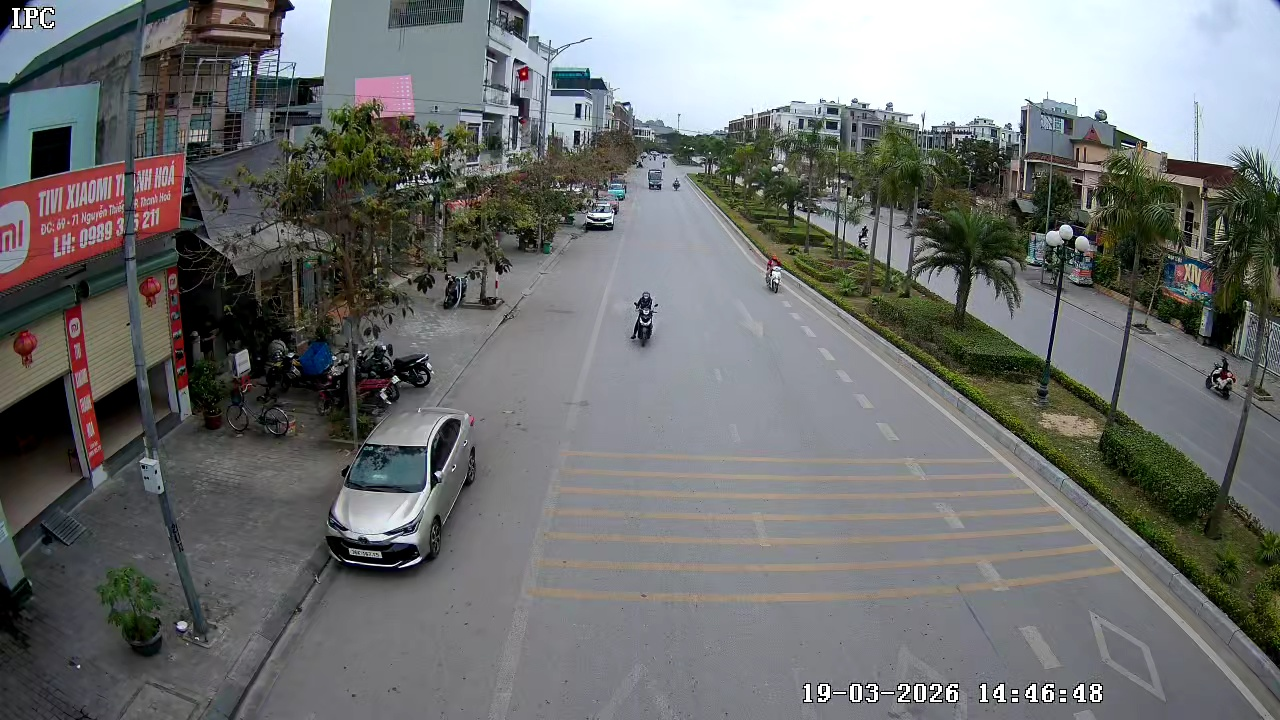car: (326, 405, 478, 572), (583, 201, 617, 231), (647, 166, 663, 191)
motorbike: (355, 331, 401, 408), (628, 288, 660, 349), (1204, 354, 1236, 404), (762, 257, 783, 294), (673, 177, 682, 192)
